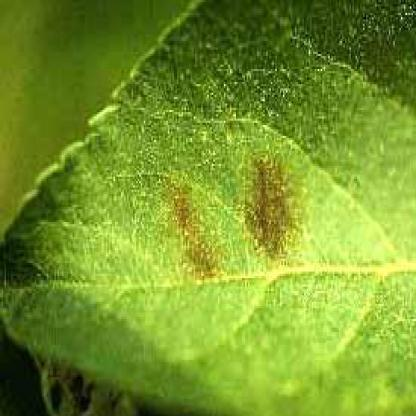Apple Scab Leaf: (7, 5, 414, 410)
